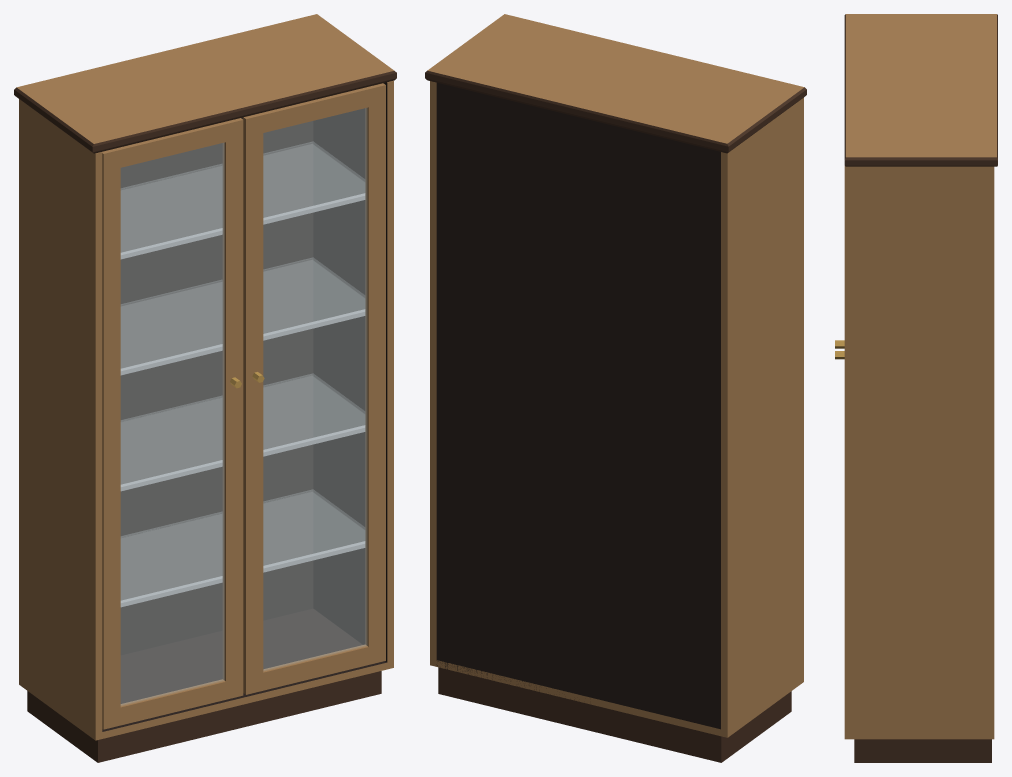
File: FN_Cabinet_Display.glb
3 renders of one model, left to right at view 1: azimuth 30°, elevation 25°; view 2: azimuth 150°, elevation 25°; view 3: azimuth 270°, elevation 25°, orthographic. The views are drawn at different scales.
Parts seen in each view (by area): view 1: FN_Cabinet_Display; view 2: FN_Cabinet_Display; view 3: FN_Cabinet_Display.
Boxes of the visible parts, x1,y1,x2,y2 form: FN_Cabinet_Display: (14, 14, 396, 762); FN_Cabinet_Display: (425, 14, 806, 762); FN_Cabinet_Display: (835, 14, 997, 762).
Bounding box in the file's own units: 0.918 × 1.8 × 0.436.
2 materials, 1 textured.
